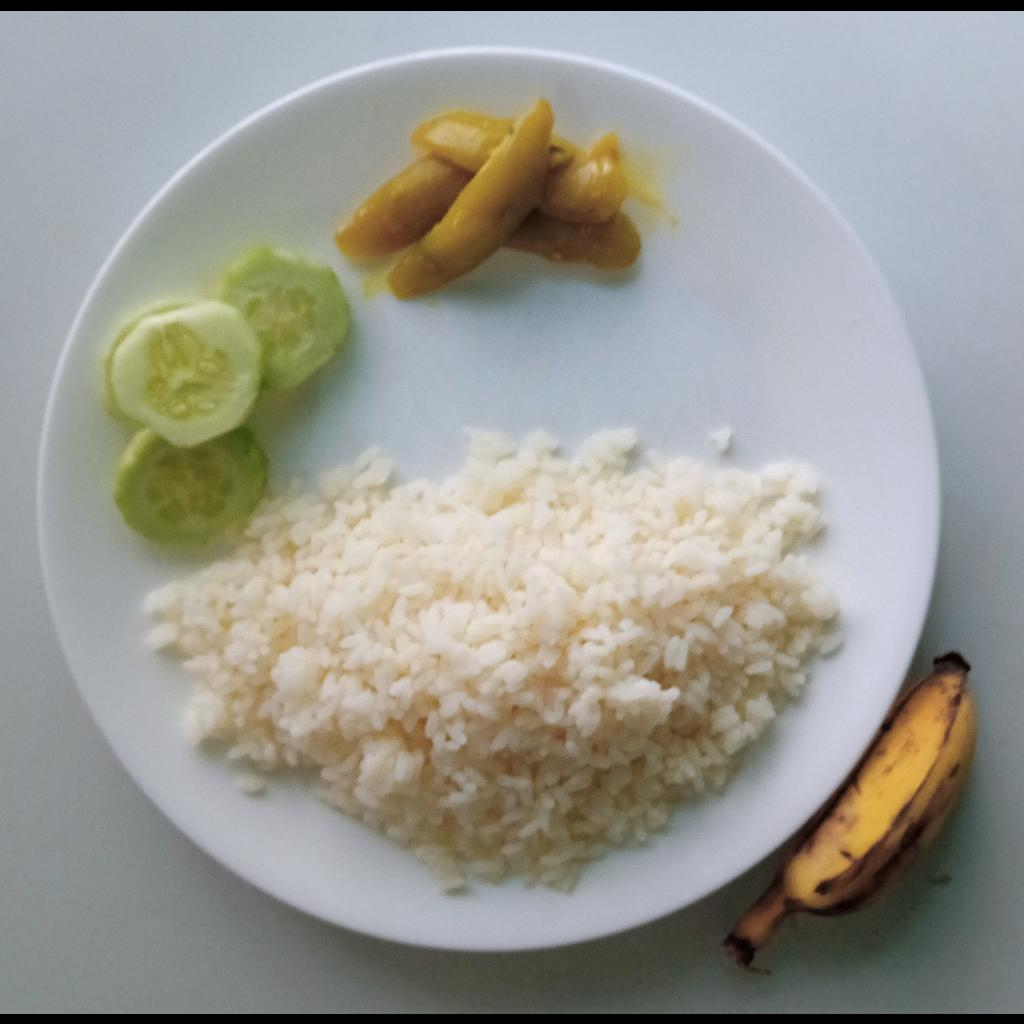banana: (726, 651, 975, 968)
cucumber: (103, 244, 350, 551)
potol: (334, 93, 642, 301)
rice: (139, 419, 858, 898)
